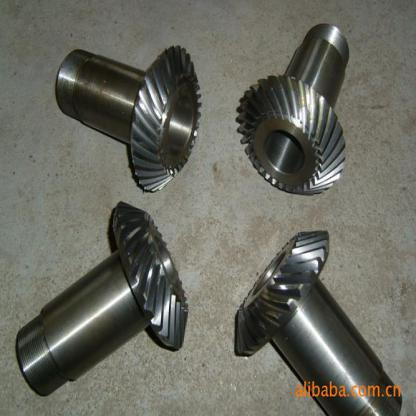FOD: (228, 223, 332, 364), (108, 194, 198, 356), (233, 72, 348, 198), (129, 40, 210, 197)
